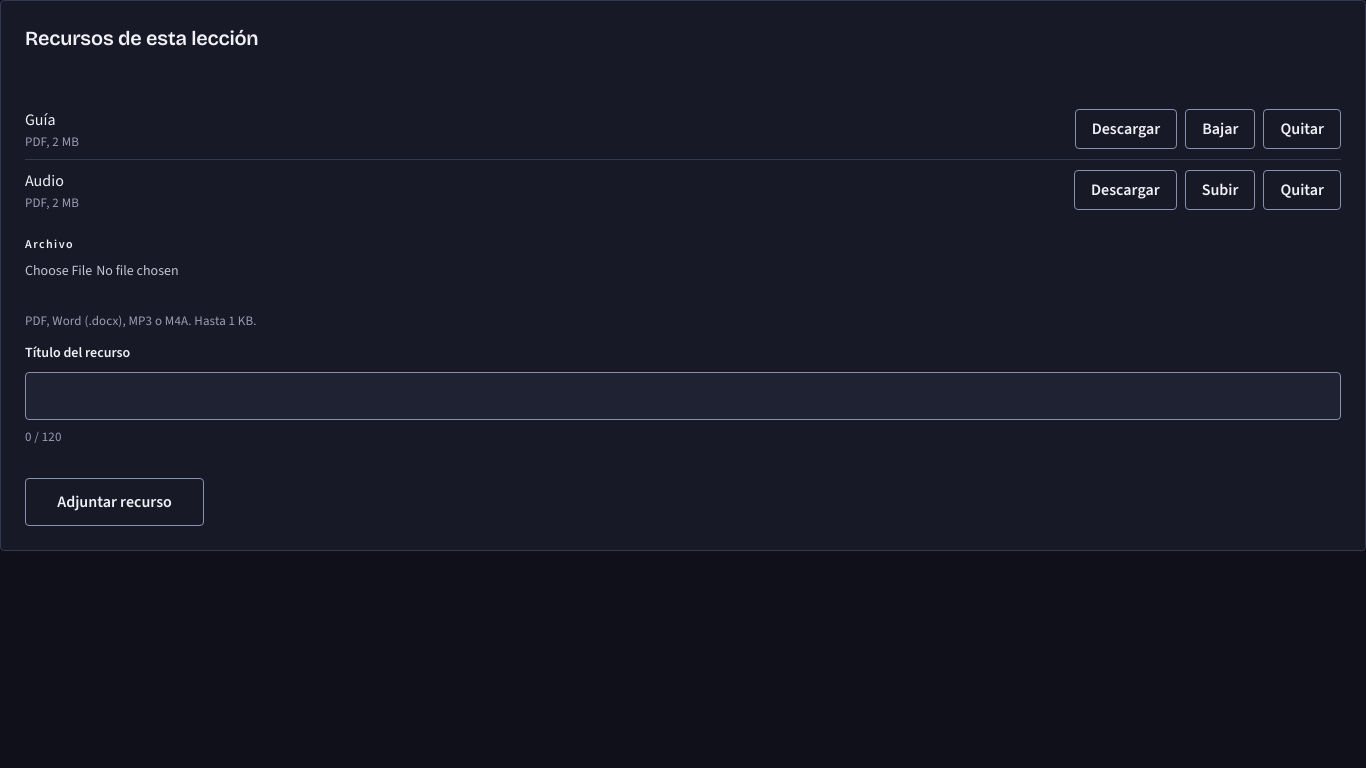
la lista › lo que falló se dice en el bloque
Click the button named "Bajar Guía" at (1220, 129), box [1185,109,1256,149]
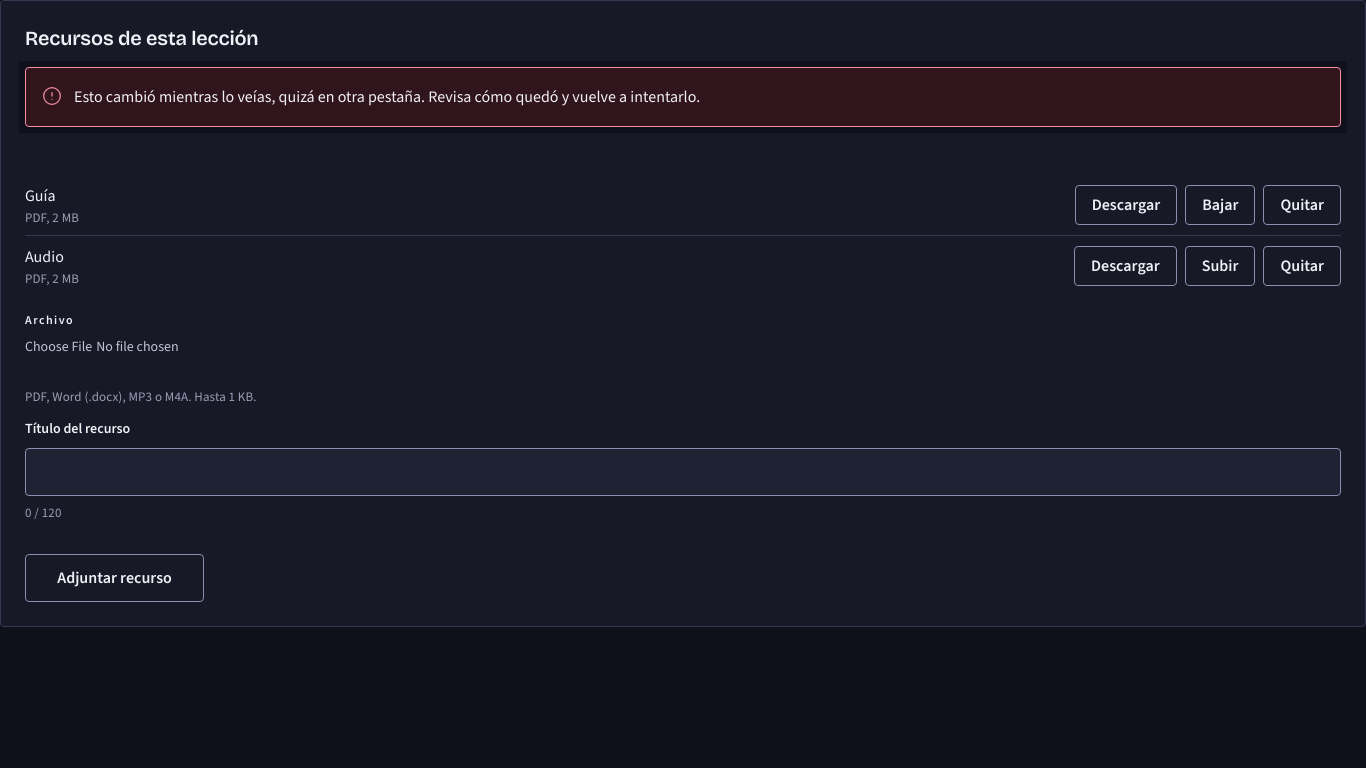
Check: the text "Esto cambió mientras lo veías" is shown, box [74,86,700,107]
